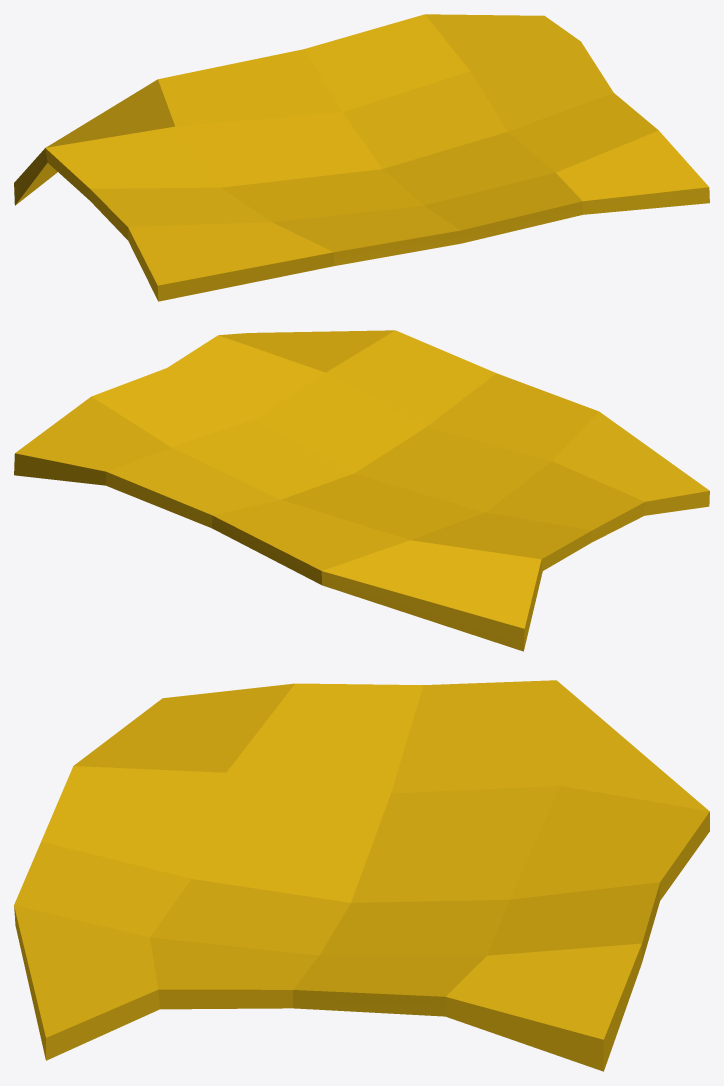
The model's file is cheese.fbx.
3 views of the same model, one above another, from view 1: azimuth 30°, elevation 25°; view 2: azimuth 150°, elevation 25°; view 3: azimuth 270°, elevation 25° (orthographic). The views are drawn at different scales.
Visible parts, largest first — view 1: fromagee 1; view 2: fromagee 1; view 3: fromagee 1.
Boxes of the visible parts, left/top/right/bottom form: fromagee 1: left=14, top=14, right=709, bottom=301; fromagee 1: left=14, top=330, right=709, bottom=651; fromagee 1: left=14, top=680, right=709, bottom=1071.
Bounding box in the file's own units: 605 × 94.13 × 480.
